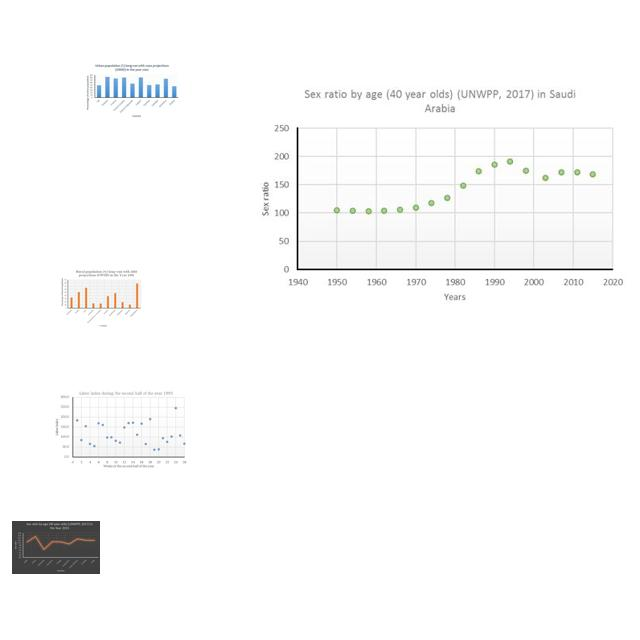Graph: (247, 80, 627, 303), (55, 390, 188, 469), (85, 63, 180, 119), (60, 269, 142, 327), (12, 521, 100, 574)
